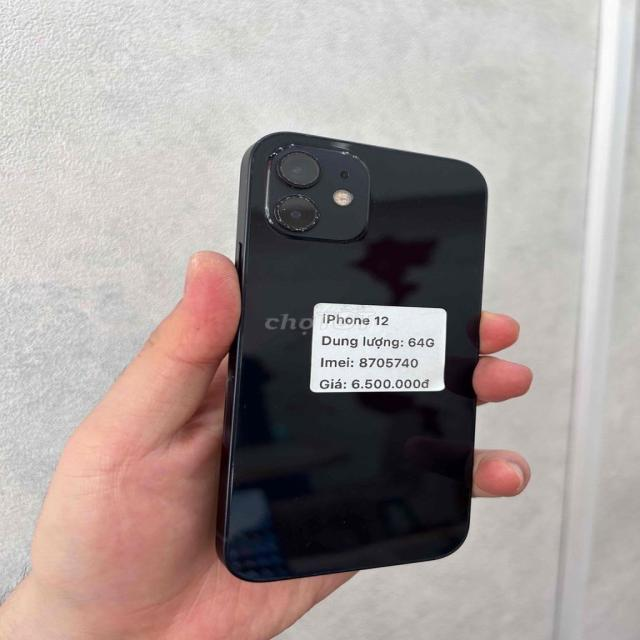gen_12_13: (205, 126, 507, 590)
